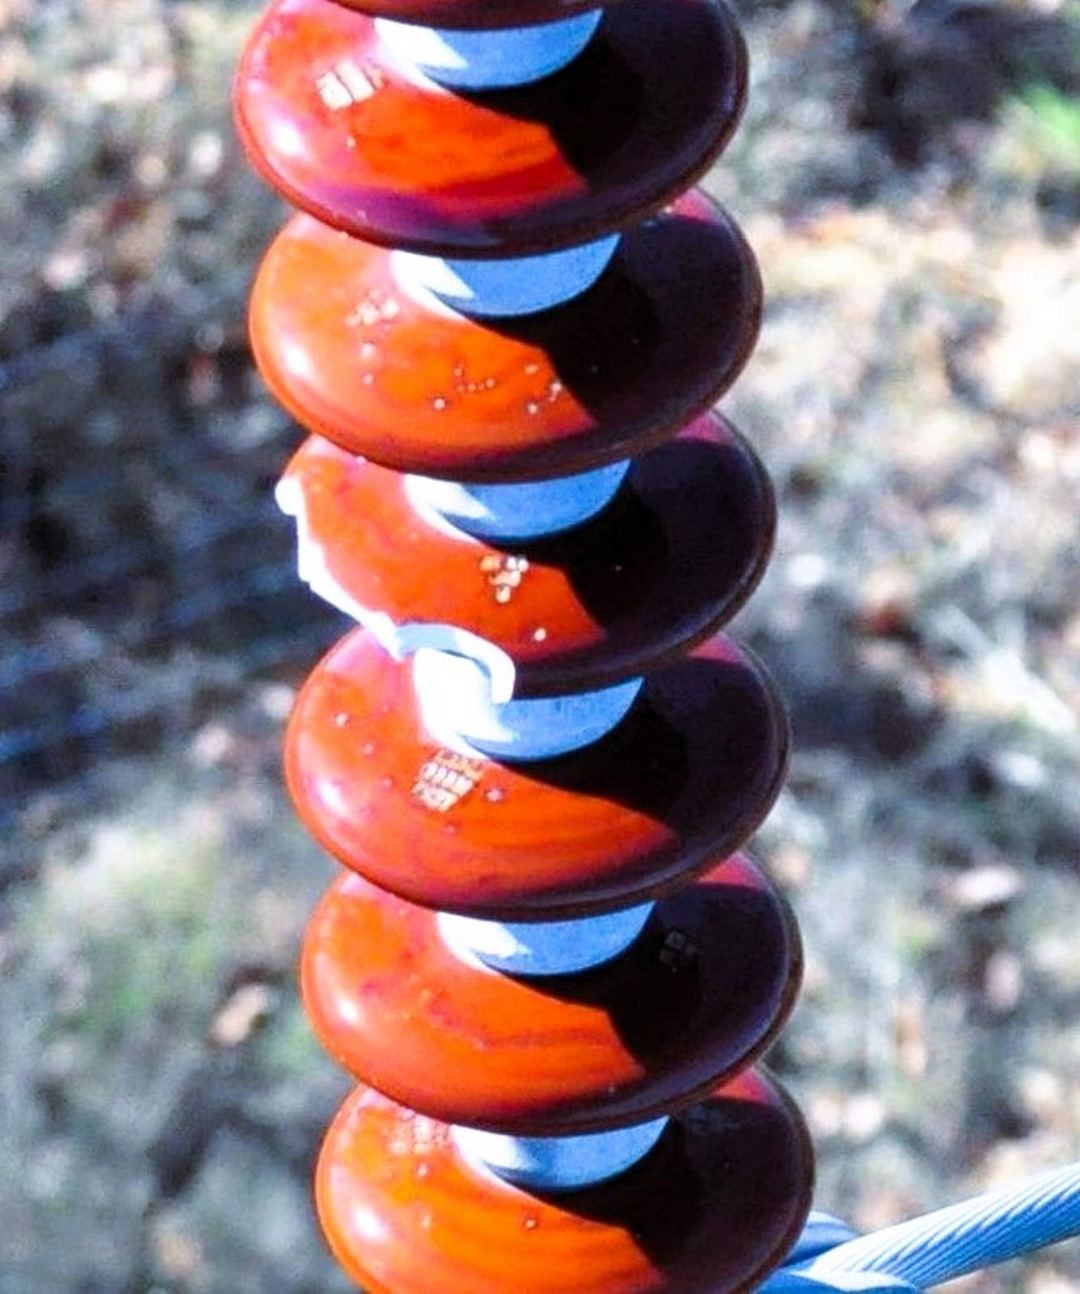insulator breakage: (243, 400, 792, 714)
